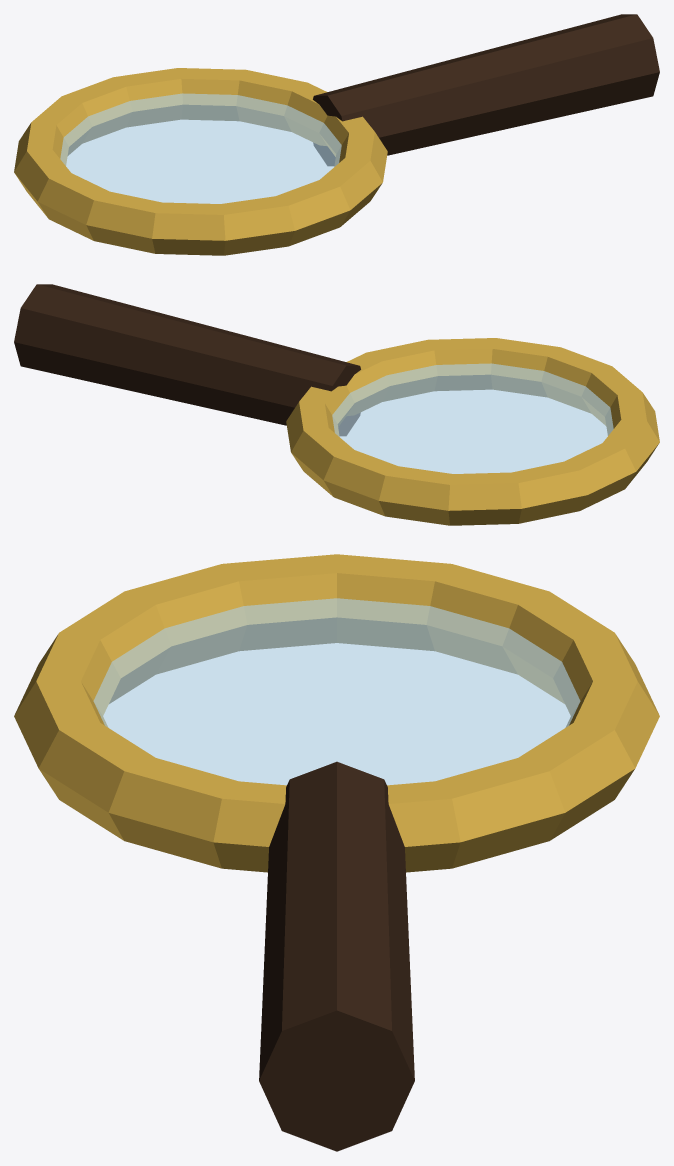
Rendered from bill_loupe.glb.
3 renders of one model, top to bottom at view 1: azimuth 30°, elevation 25°; view 2: azimuth 150°, elevation 25°; view 3: azimuth 270°, elevation 25°, orthographic. The views are drawn at different scales.
Visible parts, largest first — view 1: ring_loupe_brass, handle_loupe_handle, lens_loupe_lens; view 2: ring_loupe_brass, handle_loupe_handle, lens_loupe_lens; view 3: ring_loupe_brass, lens_loupe_lens, handle_loupe_handle.
Part boxes in pixels (x1,y1,x2,y2): ring_loupe_brass: [14, 68, 387, 255]; handle_loupe_handle: [313, 14, 659, 165]; lens_loupe_lens: [60, 93, 341, 203]; ring_loupe_brass: [286, 338, 659, 525]; handle_loupe_handle: [14, 284, 360, 435]; lens_loupe_lens: [332, 363, 613, 473]; ring_loupe_brass: [14, 554, 659, 872]; lens_loupe_lens: [93, 598, 580, 785]; handle_loupe_handle: [259, 761, 414, 1151].
Size of the model in its own units: 0.213 by 0.028 by 0.116.
